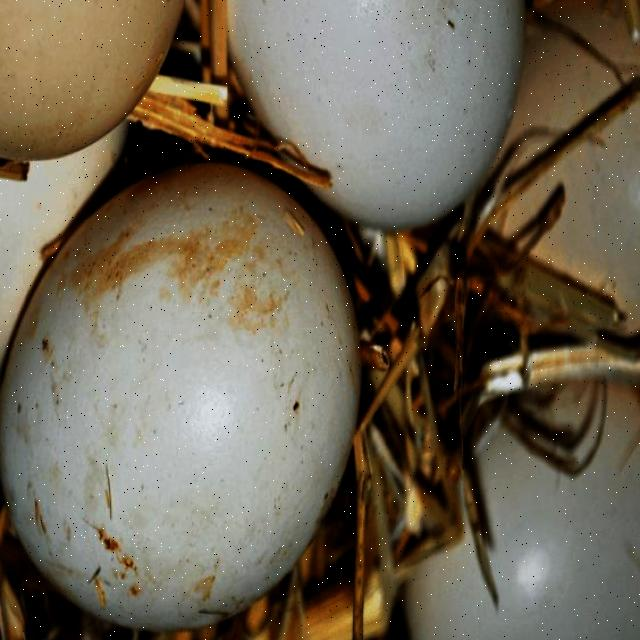Dirt Stained Egg: (23, 156, 362, 636)
White Egg: (225, 0, 558, 246)
